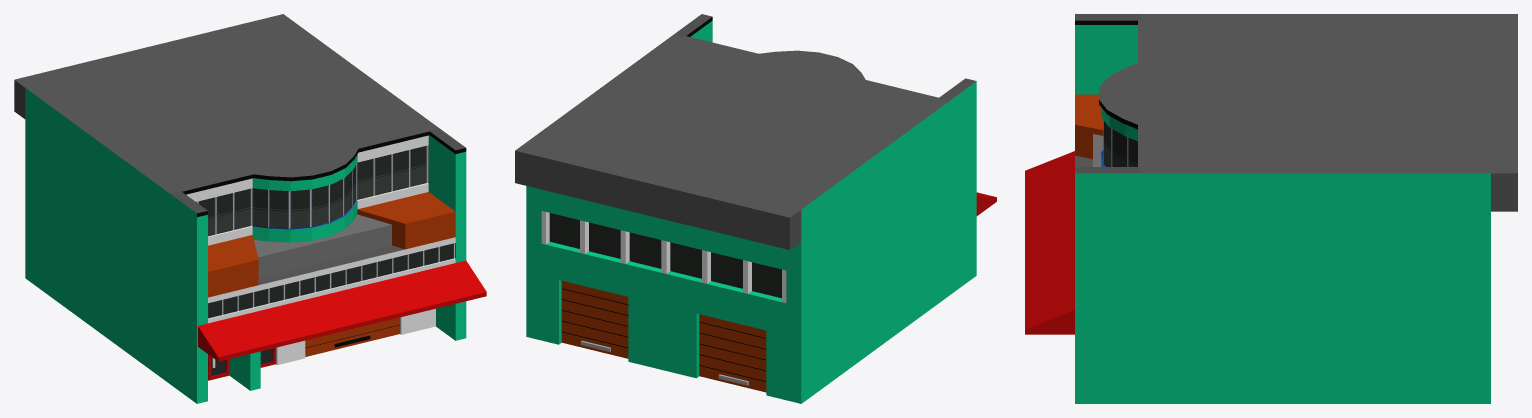
3 renders of one model, left to right at view 1: azimuth 30°, elevation 25°; view 2: azimuth 150°, elevation 25°; view 3: azimuth 270°, elevation 25°, orthographic. The views are drawn at different scales.
Parts seen in each view (by area): view 1: BB-034; view 2: BB-034; view 3: BB-034.
Boxes of the visible parts, left/top/right/bottom form: BB-034: left=14, top=14, right=486, bottom=403; BB-034: left=515, top=14, right=996, bottom=403; BB-034: left=1025, top=14, right=1517, bottom=403.
Size of what is drawn, in the model's own units: 13.58 by 9.18 by 17.78.
